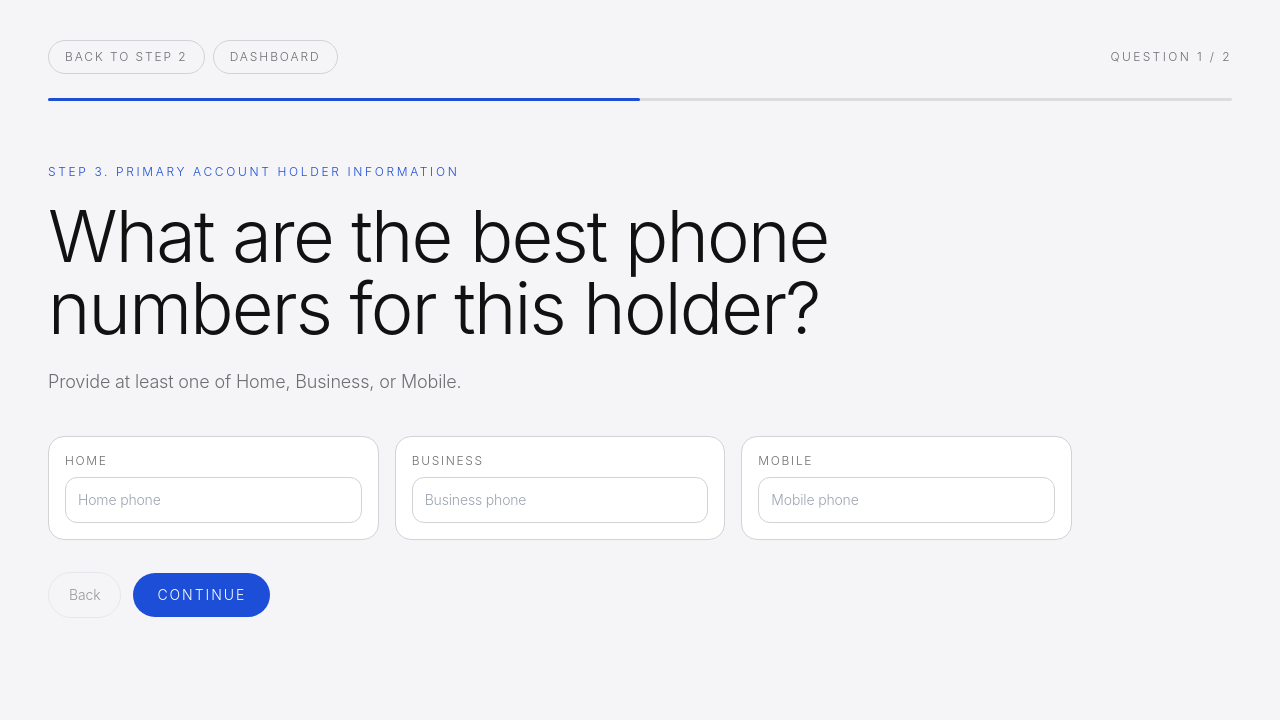
Test: InvestorProfileStep3Page › loads grouped phones question and submits grouped answer patch
Expected: the text "STEP 3. PRIMARY ACCOUNT HOLDER INFORMATION" is shown, [48, 164, 459, 178]
Expected: the heading "What are the best phone numbers for this holder?" is shown, [48, 192, 828, 350]
In the field with placeholder "Mobile phone": (907, 500) [758, 476, 1055, 522], type "+1 555 555 1212"
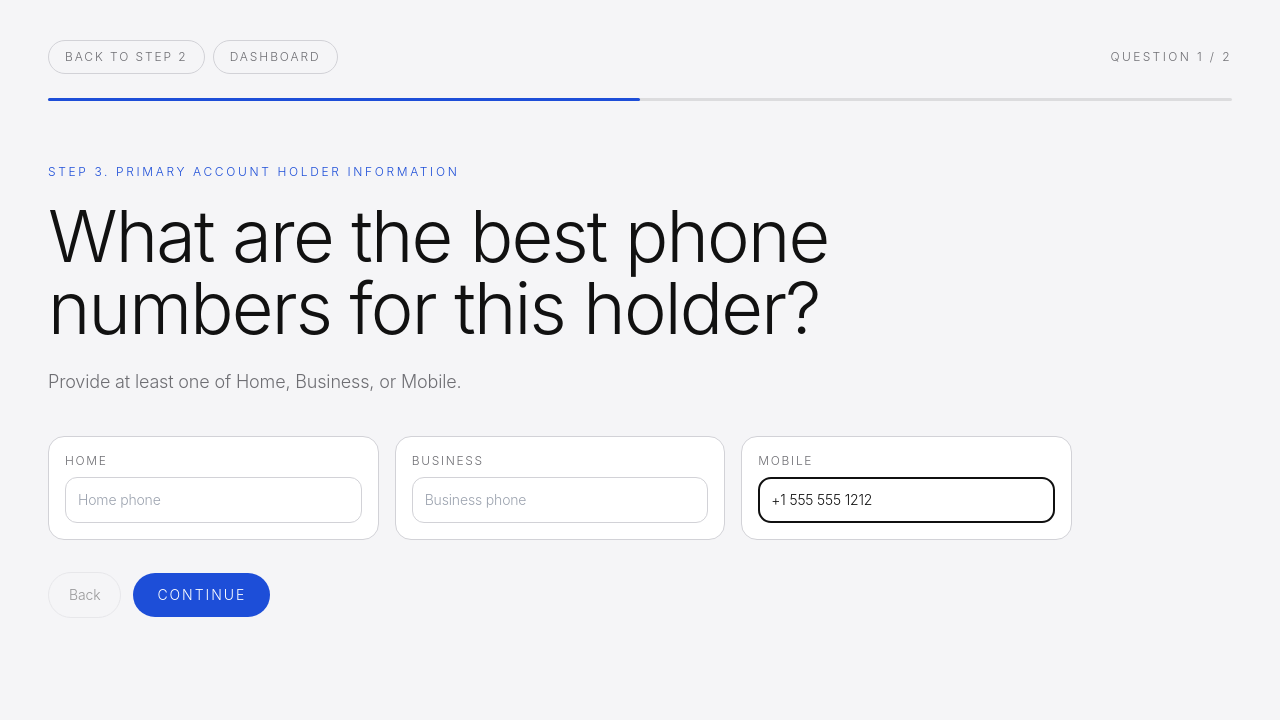
Click the button "Continue": (202, 594) [133, 572, 270, 616]
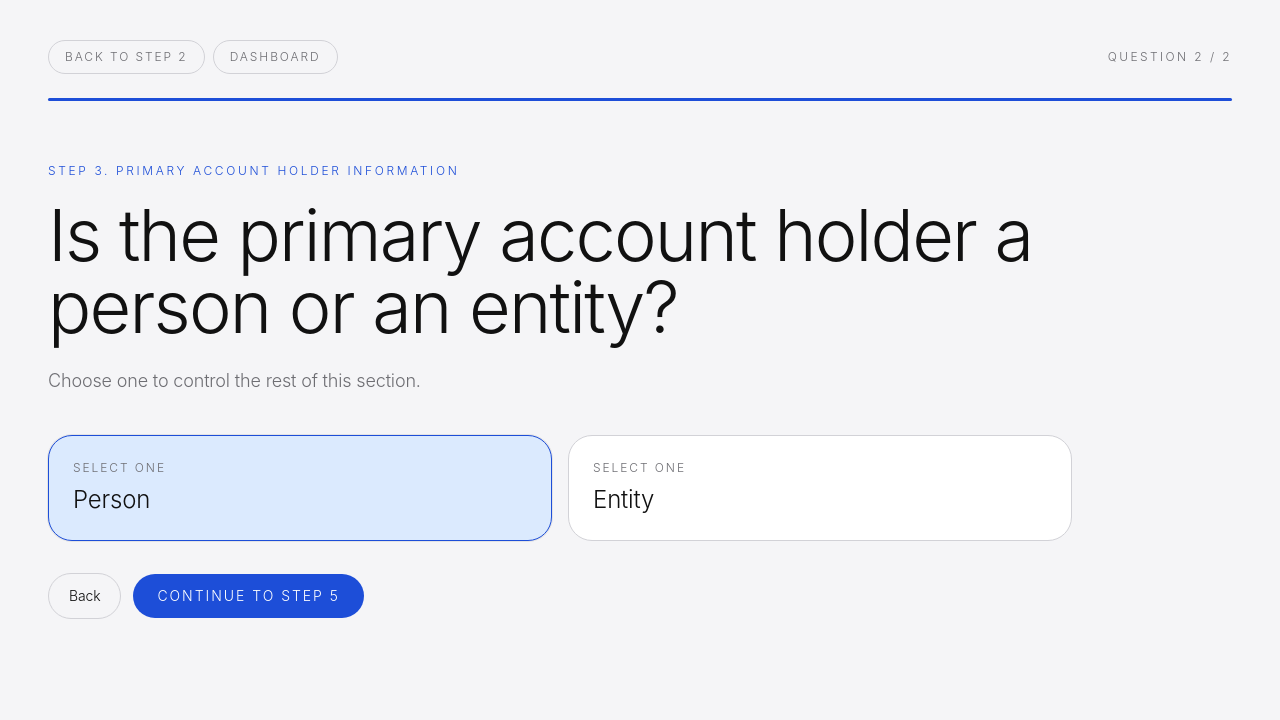
Now the heading "Is the primary account holder a person or an entity?" is shown, box [48, 198, 1072, 342]
